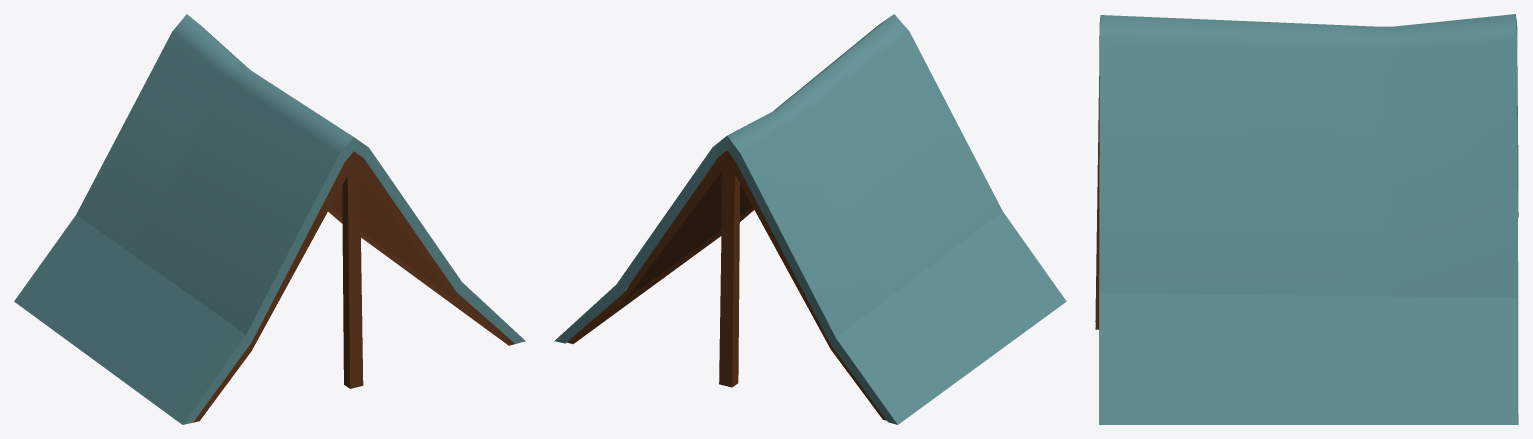
The model's file is tent_01.fbx.
3 renders of one model, left to right at view 1: azimuth 30°, elevation 25°; view 2: azimuth 150°, elevation 25°; view 3: azimuth 270°, elevation 25°, orthographic. The views are drawn at different scales.
Parts seen in each view (by area): view 1: tarp; view 2: tarp; view 3: tarp.
Boxes of the visible parts, x1=… form: tarp: x1=14, y1=14, x2=525, y2=424; tarp: x1=554, y1=14, x2=1066, y2=424; tarp: x1=1095, y1=14, x2=1518, y2=424.
Bounding box in the file's own units: 218 × 152 × 187.
